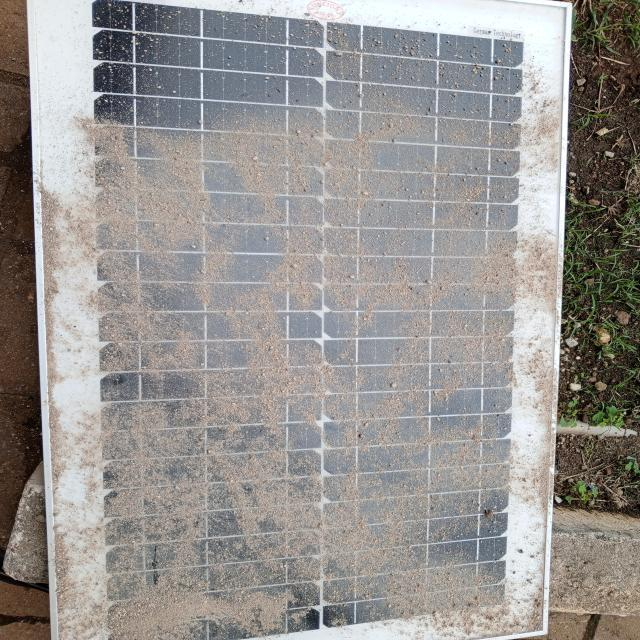Surface Contaminant: (75, 18, 543, 627)
